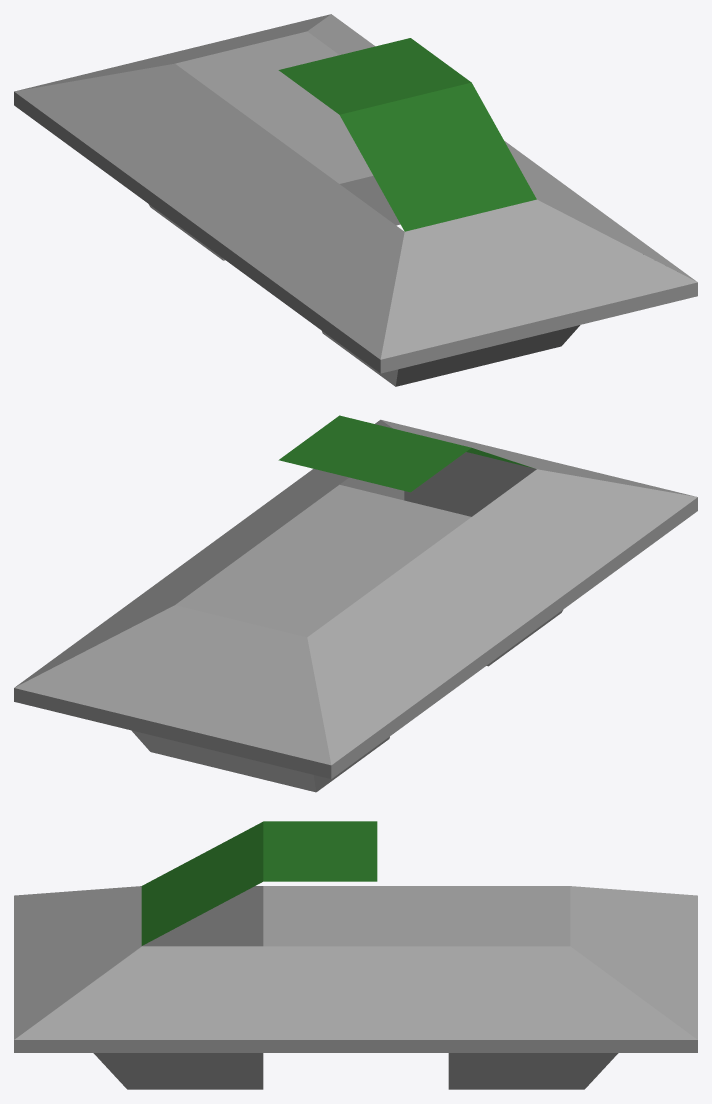
File: float02.obj
3 renders of one model, top to bottom at view 1: azimuth 30°, elevation 25°; view 2: azimuth 150°, elevation 25°; view 3: azimuth 270°, elevation 25°, orthographic. The views are drawn at different scales.
Visible parts, largest first — view 1: Cube.015_Cube.013; view 2: Cube.015_Cube.013; view 3: Cube.015_Cube.013.
Boxes of the visible parts, x1=… form: Cube.015_Cube.013: x1=14, y1=14, x2=697, y2=386; Cube.015_Cube.013: x1=14, y1=415, x2=697, y2=792; Cube.015_Cube.013: x1=14, y1=821, x2=697, y2=1089.
Bounding box in the file's own units: 240 × 155 × 480.
